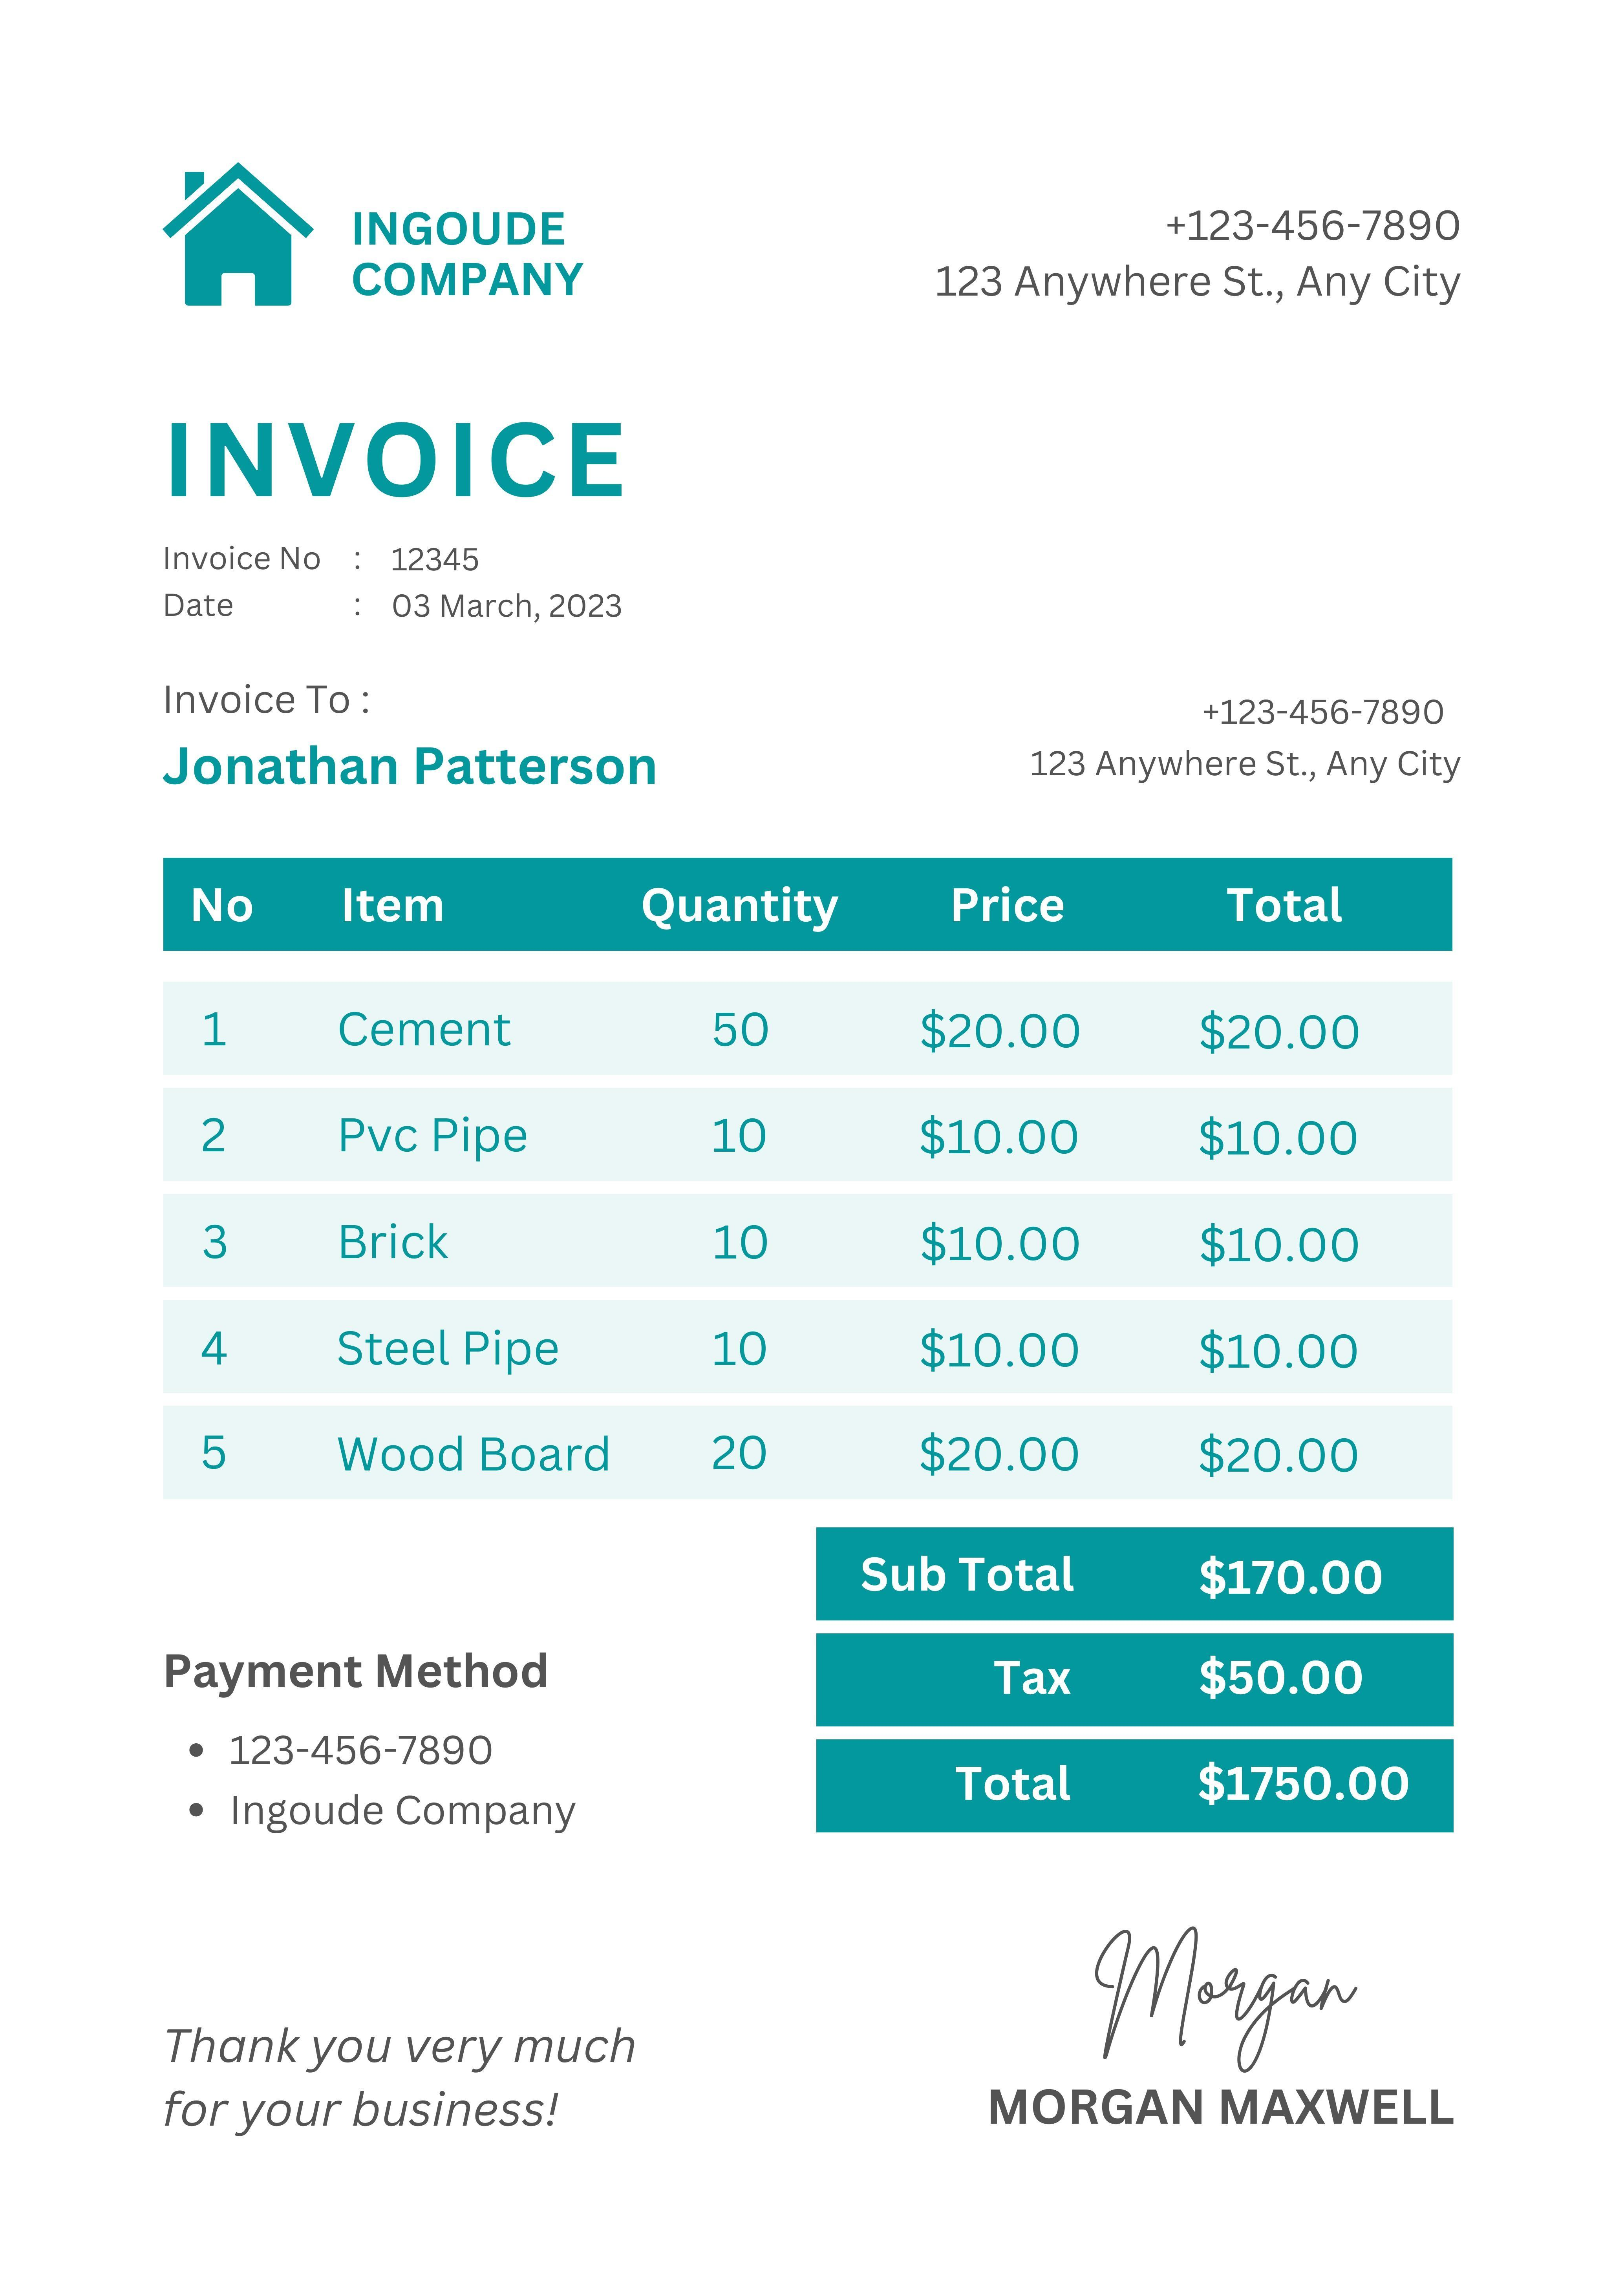ROI: (158, 850, 1461, 1502), (817, 1535, 1455, 1827), (146, 671, 1482, 810), (330, 181, 1552, 330), (141, 1634, 601, 1852), (146, 518, 640, 639)
